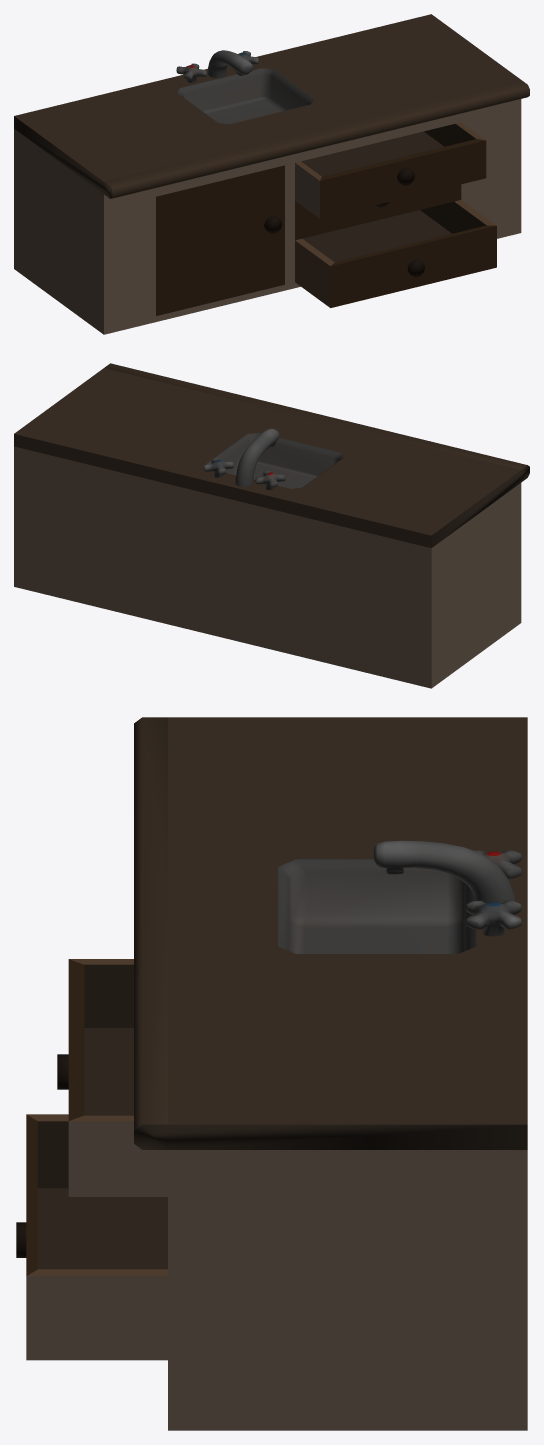
Rendered from Kitchenbench.fbx.
3 views of the same model, one above another, from view 1: azimuth 30°, elevation 25°; view 2: azimuth 150°, elevation 25°; view 3: azimuth 270°, elevation 25° (orthographic). The views are drawn at different scales.
Visible parts, largest first — view 1: KitchenBench; view 2: KitchenBench; view 3: KitchenBench.
Boxes of the visible parts, bbox=[...] form: KitchenBench: bbox=[14, 14, 529, 334]; KitchenBench: bbox=[14, 363, 529, 688]; KitchenBench: bbox=[16, 717, 527, 1430].
Size of the model in its own units: 4507 by 1913 by 2392.
